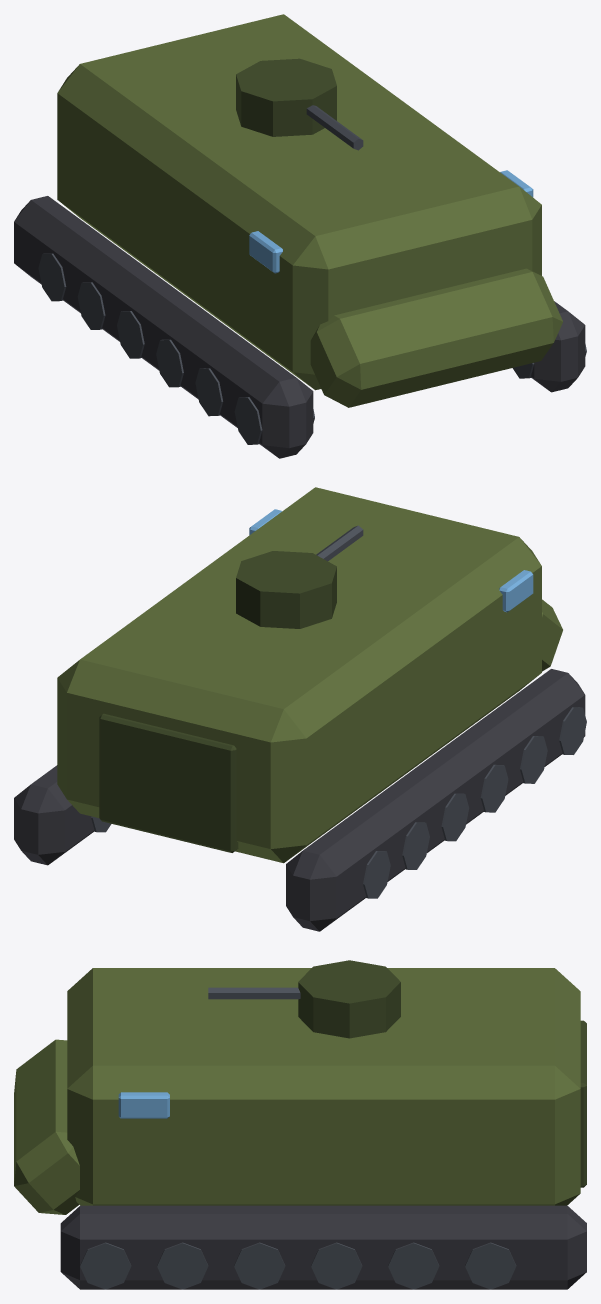
The model's file is APC.fbx.
3 renders of one model, top to bottom at view 1: azimuth 30°, elevation 25°; view 2: azimuth 150°, elevation 25°; view 3: azimuth 270°, elevation 25°, orthographic.
Parts seen in each view (by area): view 1: APC, APC_Turret; view 2: APC, APC_Turret; view 3: APC, APC_Turret.
Boxes of the visible parts, left/top/right/bottom form: APC: left=14, top=14, right=586, bottom=458; APC_Turret: left=236, top=58, right=363, bottom=150; APC: left=14, top=487, right=586, bottom=931; APC_Turret: left=236, top=525, right=363, bottom=628; APC: left=14, top=968, right=586, bottom=1289; APC_Turret: left=208, top=960, right=400, bottom=1038.
Size of the model in its own units: 5.76 by 4.1 by 8.93.
1 material, 1 textured.
